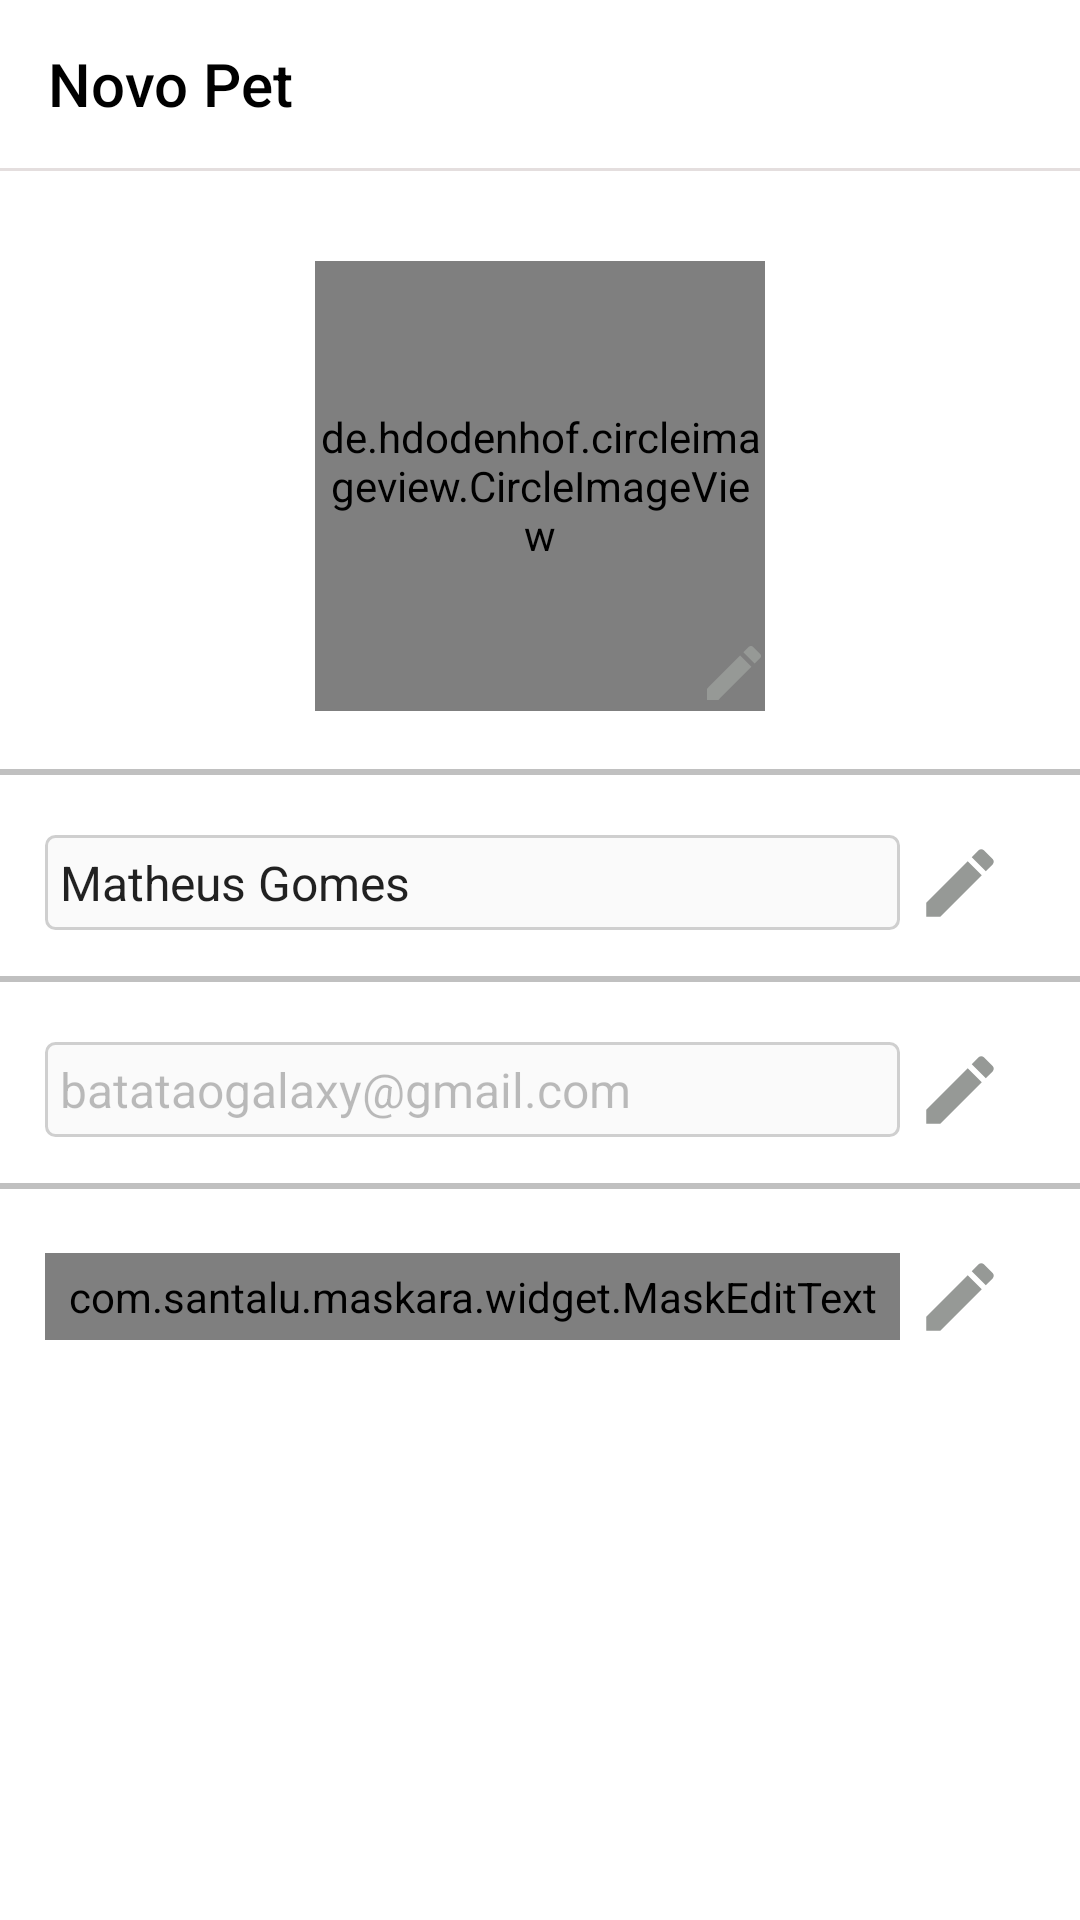

Where to tap for icons on this 1080px×1920px app screen, as [x,y]:
edit lapis: [734,673], [960,883], [960,1090], [960,1297]
